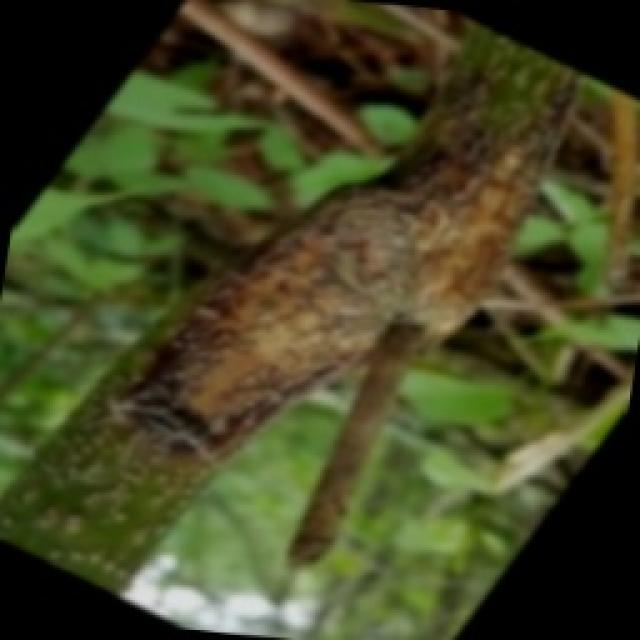Golden_canker: (13, 37, 640, 637)
